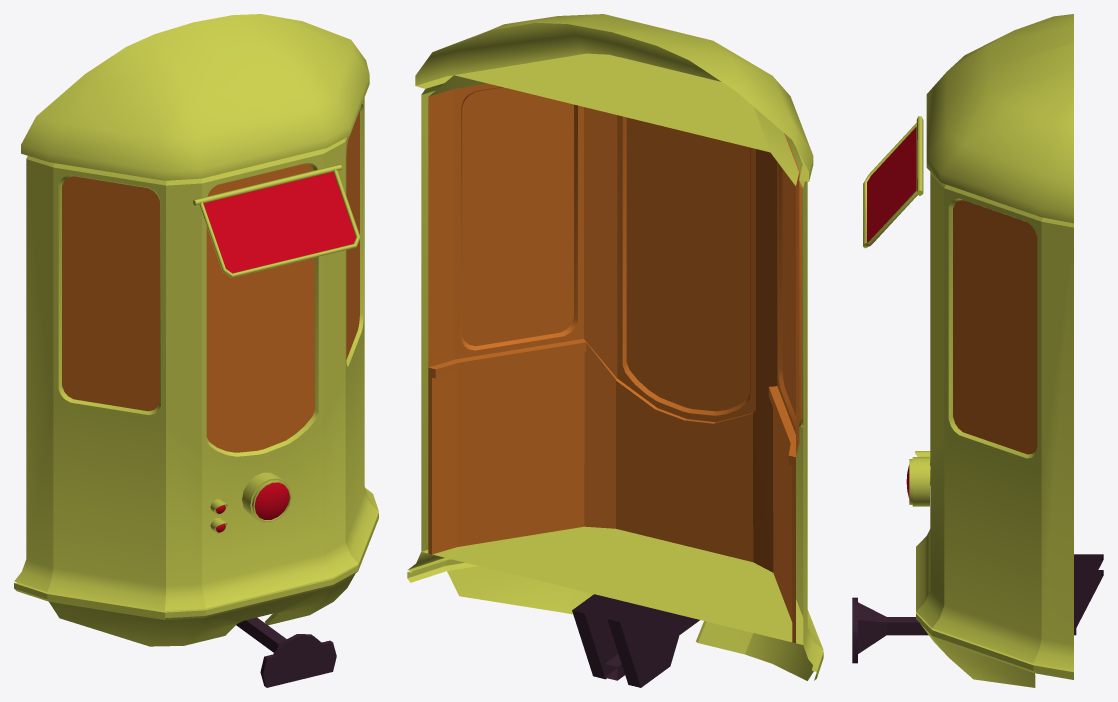
The model's file is vagon end 2 lod1.FBX.
The picture shows the model from 3 angles, left to right: view 1: azimuth 30°, elevation 25°; view 2: azimuth 150°, elevation 25°; view 3: azimuth 270°, elevation 25°; orthographic projection. The views are drawn at different scales.
Parts seen in each view (by area): view 1: Box240, Group091; view 2: Box240; view 3: Box240, Group091.
Part boxes in pixels (x1,y1,x2,y2): Box240: (14,14,378,687); Group091: (193,164,360,277); Box240: (407,14,823,687); Box240: (852,14,1103,687); Group091: (863,116,923,248).
Size of the model in its own units: 2.25 by 3.47 by 1.31.
